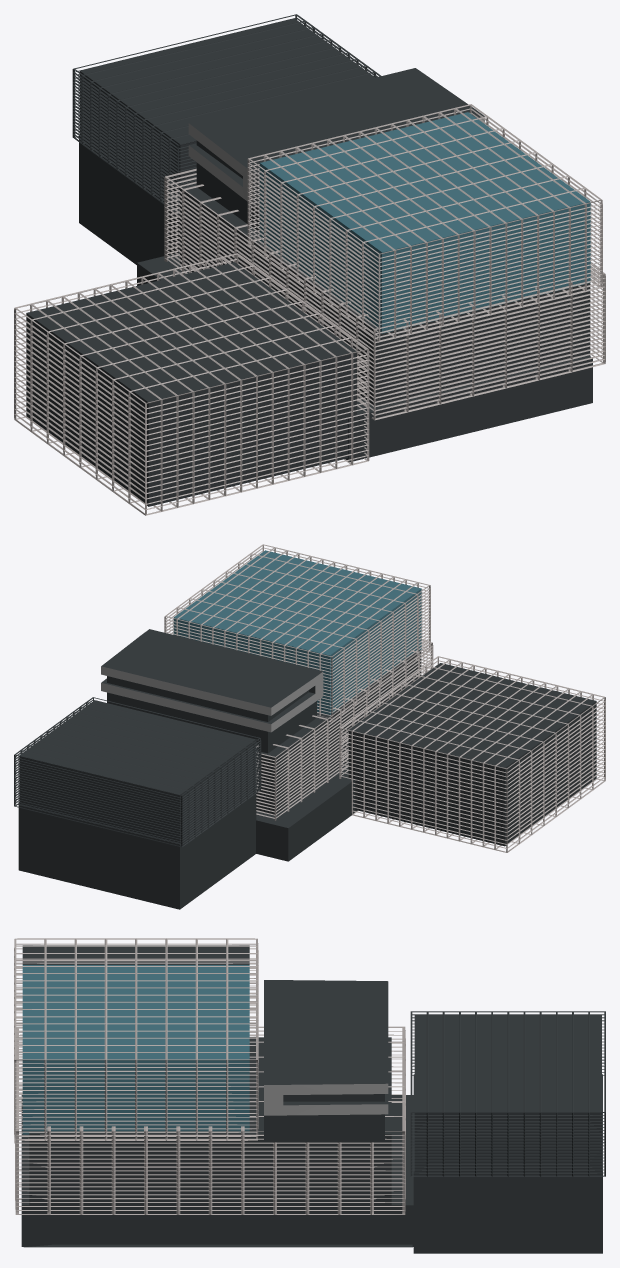
Rendered from viva envigado.fbx.
3 renders of one model, top to bottom at view 1: azimuth 30°, elevation 25°; view 2: azimuth 150°, elevation 25°; view 3: azimuth 270°, elevation 25°, orthographic. The views are drawn at different scales.
Visible parts, largest first — view 1: Cube.009; view 2: Cube.009; view 3: Cube.009.
Part boxes in pixels (bbox=[...]): Cube.009: bbox=[14, 14, 605, 515]; Cube.009: bbox=[14, 544, 605, 909]; Cube.009: bbox=[14, 938, 605, 1253].
Size of the model in its own units: 2613 by 1079 by 3044.
